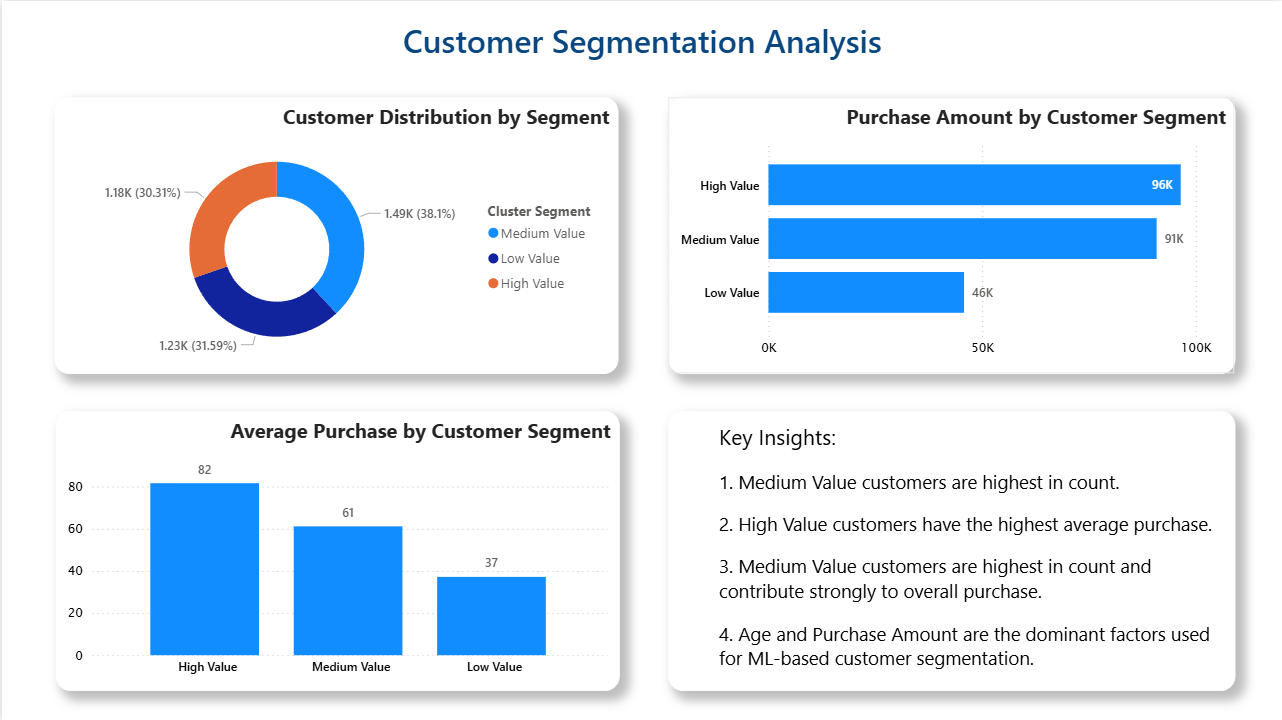

What the dashboard file says about the page in this screenshot:
{"tool":"powerbi","page":{"name":"Customer Segmentation Analysis","canvas":[1280,720],"ordinal":3},"visuals":[{"type":"donutChart","title":"Customer Distribution by Segment","fields":{"Category":["shopping_table_clustered.Cluster Segment"],"Y":["CountNonNull(shopping_table_clustered.Customer_ID)"]},"box":[52.3,113.4,565.5,275.9],"z":0},{"type":"textbox","box":[386.6,23.6,507.1,53.4],"z":1000},{"type":"clusteredBarChart","title":"Purchase Amount by Customer Segment","fields":{"Y":["Sum(shopping_table.Purchase_Amount_USD)"],"Category":["shopping_table_clustered.Cluster Segment"]},"box":[676.2,113.4,546.9,275.9],"z":2000},{"type":"clusteredColumnChart","title":"Average Purchase by Customer Segment","fields":{"Category":["shopping_table_clustered.Cluster Segment"],"Y":["shopping_table.Average Purchase"]},"box":[52.3,422.9,565.5,267.2],"z":3000},{"type":"textbox","box":[676.2,422.9,546.9,267.2],"z":4000}]}

Visuals, with their boxes in screenshot pixels (x1, y1, x2, y2), scaled from the page's 1280x720 canvas onto the 1282x720 screenshot:
"Customer Distribution by Segment" donutChart: {"x1": 52, "y1": 113, "x2": 619, "y2": 389}
textbox: {"x1": 387, "y1": 24, "x2": 895, "y2": 77}
"Purchase Amount by Customer Segment" clusteredBarChart: {"x1": 677, "y1": 113, "x2": 1225, "y2": 389}
"Average Purchase by Customer Segment" clusteredColumnChart: {"x1": 52, "y1": 423, "x2": 619, "y2": 690}
textbox: {"x1": 677, "y1": 423, "x2": 1225, "y2": 690}
